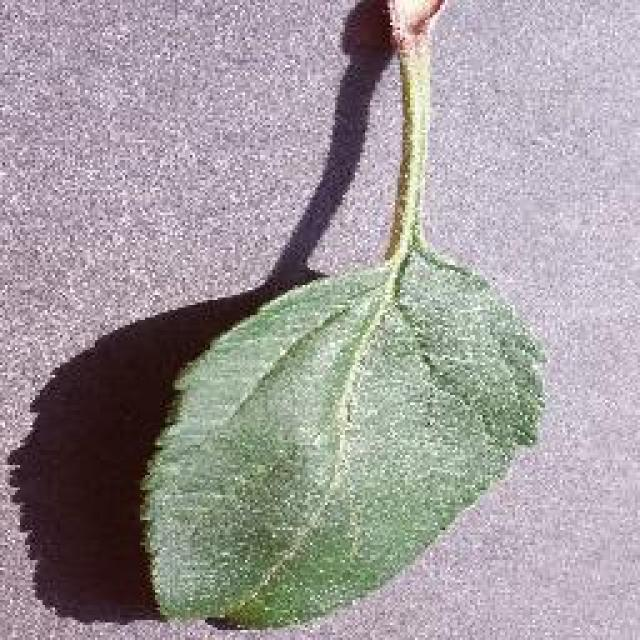apple scab disease: (135, 0, 550, 630)
